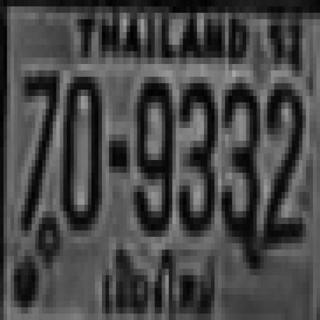N00: (63, 74, 101, 228)
N02: (264, 80, 302, 240)
N03: (220, 77, 258, 243), (176, 77, 215, 230)
N07: (21, 70, 56, 224)
N09: (134, 77, 172, 230)
P11: (95, 236, 218, 320)
